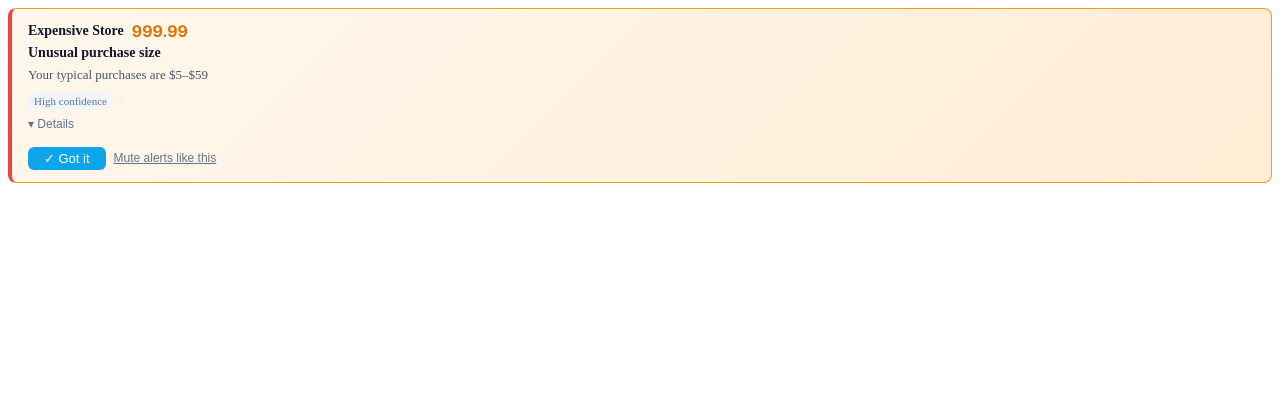
Test case: AnomalyAlertItem — Details panel › should expand details panel on toggle click
This screenshot has width=1280, height=405.
What coordinates should you click on to do the following:
click the button with test id "anomaly-details-toggle"
I would click on:
 (51, 124)
Its box is [28, 112, 1255, 134].
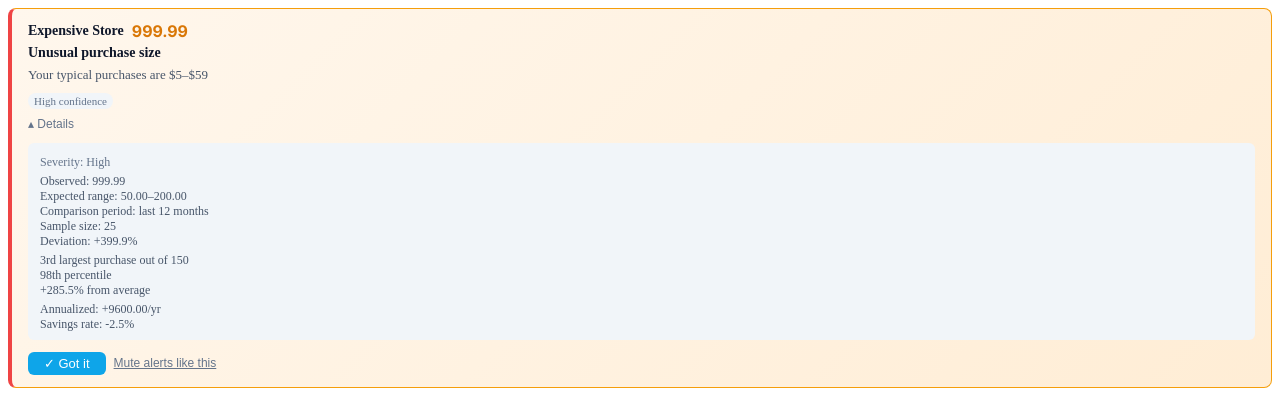
Check: the button with test id "anomaly-details-toggle" reads "▴ Details", box [28, 112, 1255, 134]
Check: the button with test id "anomaly-details-toggle" is expanded, box [28, 112, 1255, 134]
Check: the element with test id "anomaly-details-panel" is shown, box [28, 142, 1255, 340]
